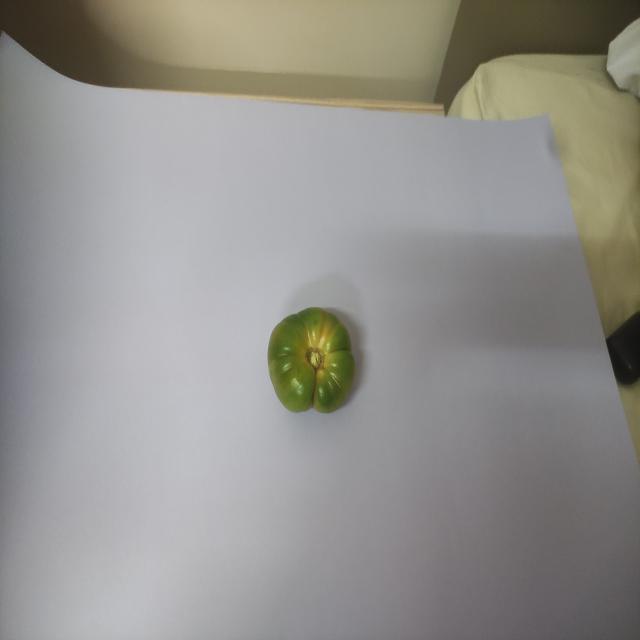unripe tomato: (246, 291, 374, 422)
